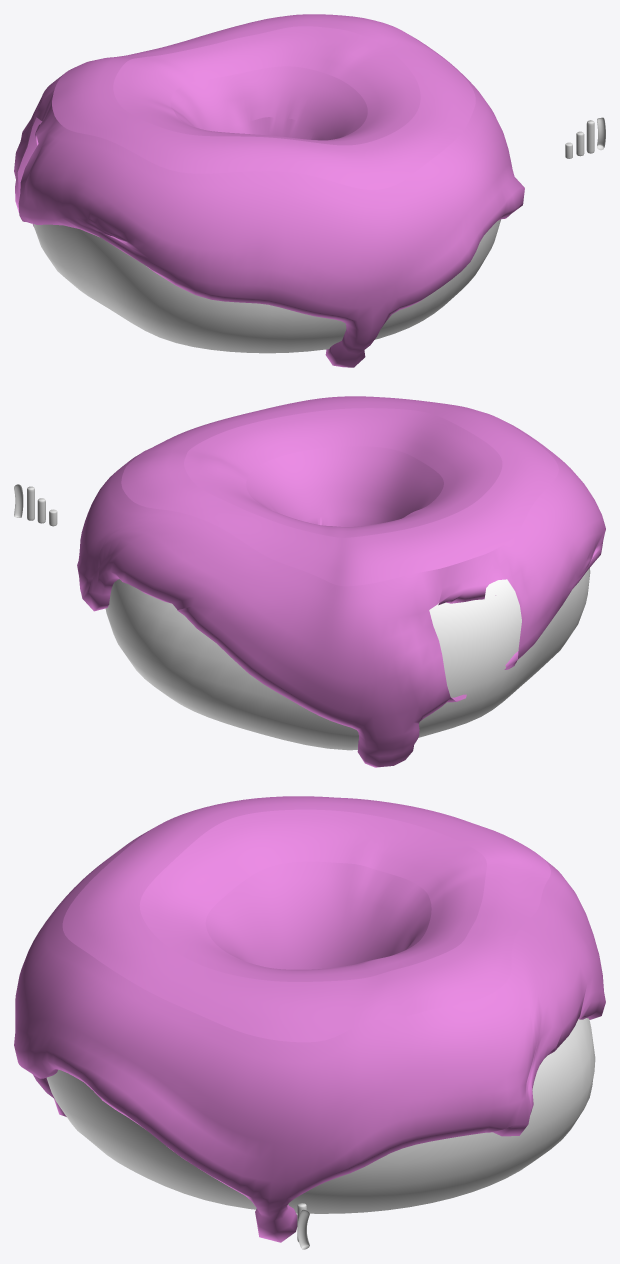
Rendered from donut.glb.
3 renders of one model, top to bottom at view 1: azimuth 30°, elevation 25°; view 2: azimuth 150°, elevation 25°; view 3: azimuth 270°, elevation 25°, orthographic. The views are drawn at different scales.
Visible parts, largest first — view 1: Icing, Donut; view 2: Icing, Donut; view 3: Icing, Donut.
Part boxes in pixels (left/top/right/bottom): Icing: left=14, top=14, right=524, bottom=367; Donut: left=33, top=219, right=500, bottom=353; Icing: left=77, top=396, right=605, bottom=767; Donut: left=105, top=568, right=590, bottom=750; Icing: left=14, top=796, right=605, bottom=1242; Donut: left=46, top=1018, right=595, bottom=1213.
Bounding box in the file's own units: 0.1585 × 0.059 × 0.1234.
